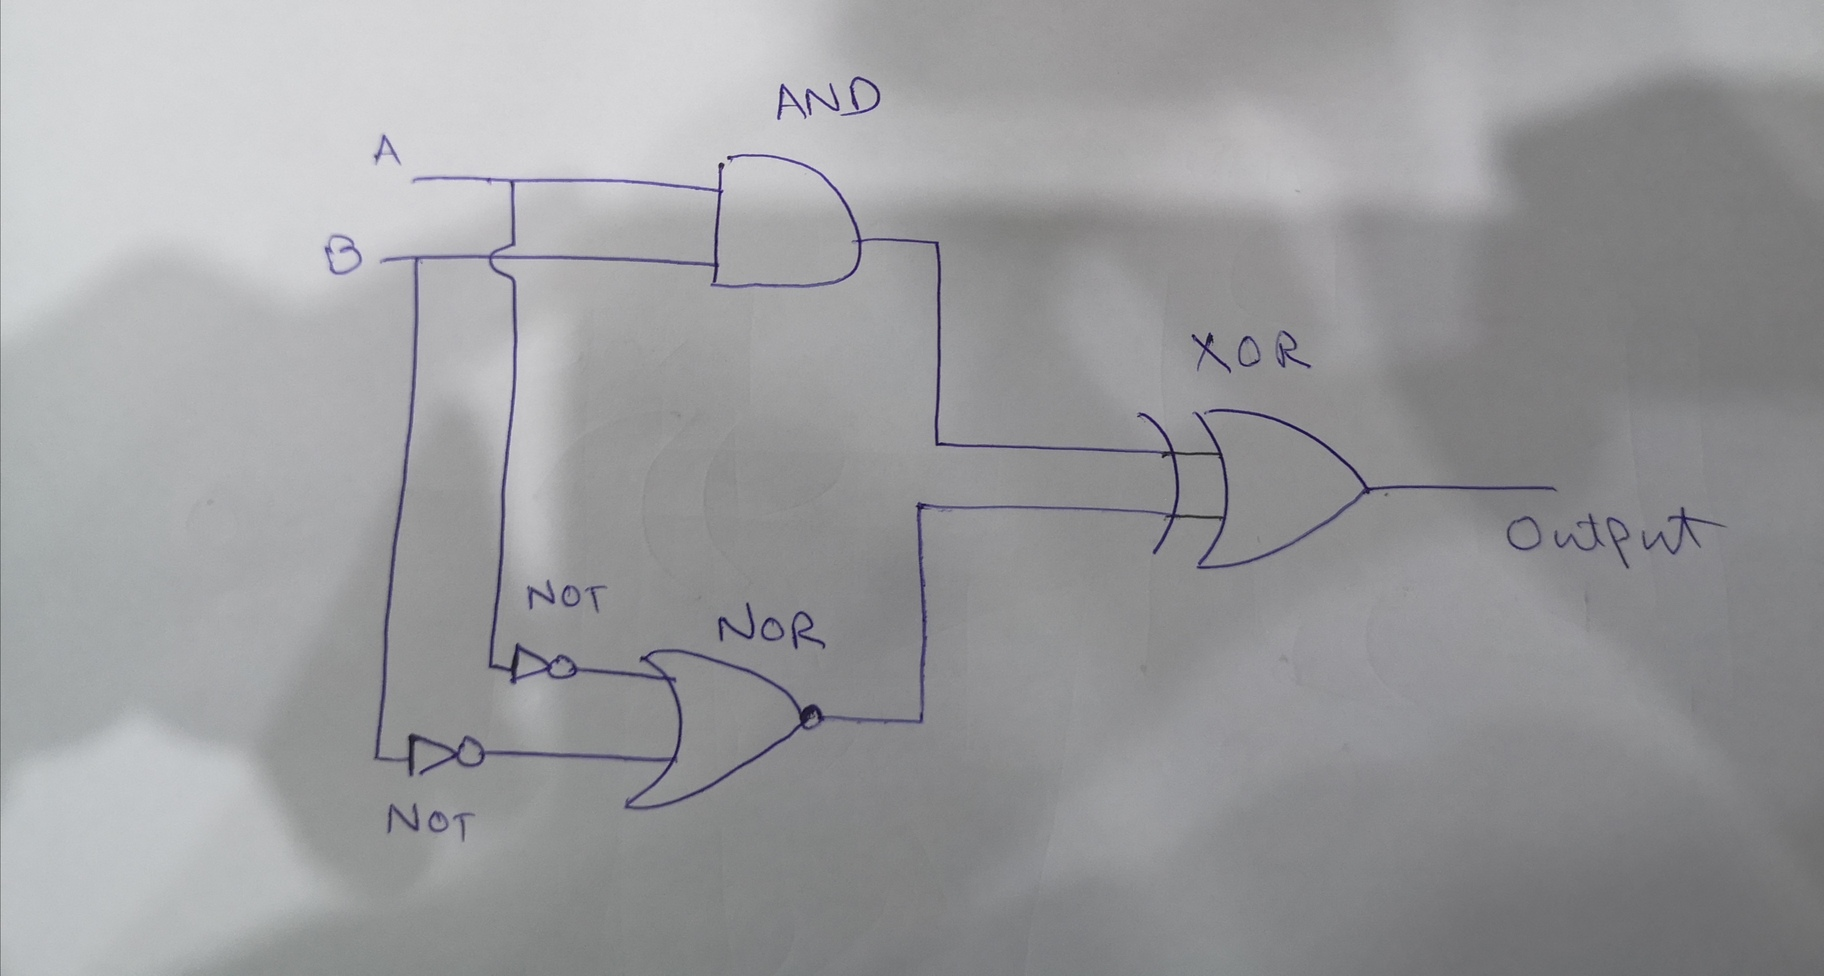and: (700, 142, 875, 304)
crossover: (483, 236, 520, 282)
junction: (916, 229, 951, 259), (905, 703, 935, 736), (907, 493, 930, 520), (926, 432, 948, 456), (499, 169, 524, 191), (407, 250, 428, 265), (483, 656, 498, 673), (369, 749, 384, 765)
nor: (615, 641, 829, 817)
not: (401, 727, 489, 785), (503, 639, 581, 686)
terminal: (1522, 477, 1565, 499), (372, 252, 391, 271), (403, 171, 423, 189)
text: (1502, 499, 1711, 567), (1188, 326, 1319, 376), (714, 604, 830, 658), (774, 75, 884, 123), (382, 797, 478, 849), (522, 578, 612, 623), (325, 230, 367, 277), (367, 128, 404, 168)
xor: (1127, 401, 1376, 578)
